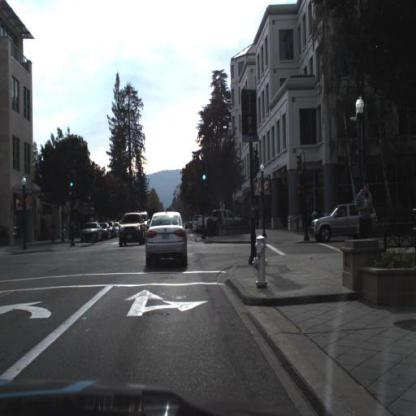car: (146, 210, 189, 272), (310, 203, 362, 245), (199, 208, 241, 235), (119, 214, 146, 249), (82, 220, 102, 243), (101, 222, 111, 238)
pedestrian: (356, 181, 376, 254)
trafficLight-Green: (70, 174, 76, 193), (70, 172, 76, 188), (202, 165, 207, 182)
